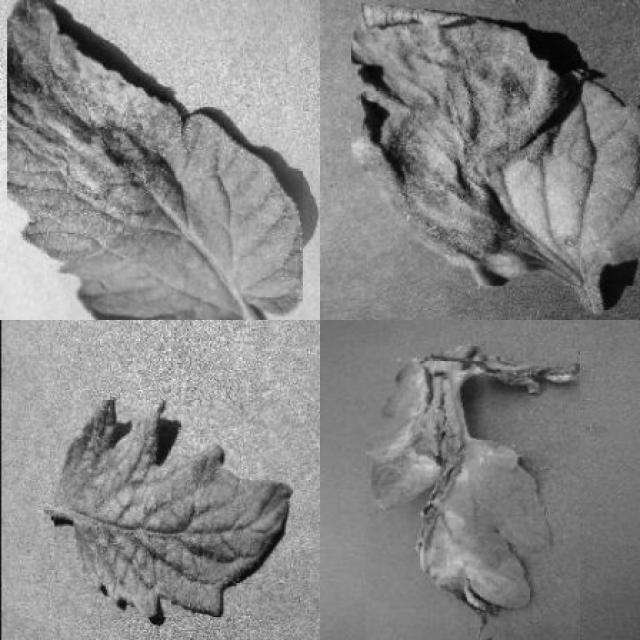Late Blight: (7, 0, 303, 320), (350, 0, 640, 286), (366, 345, 579, 640)
Mosaic Virus: (55, 400, 292, 617)
